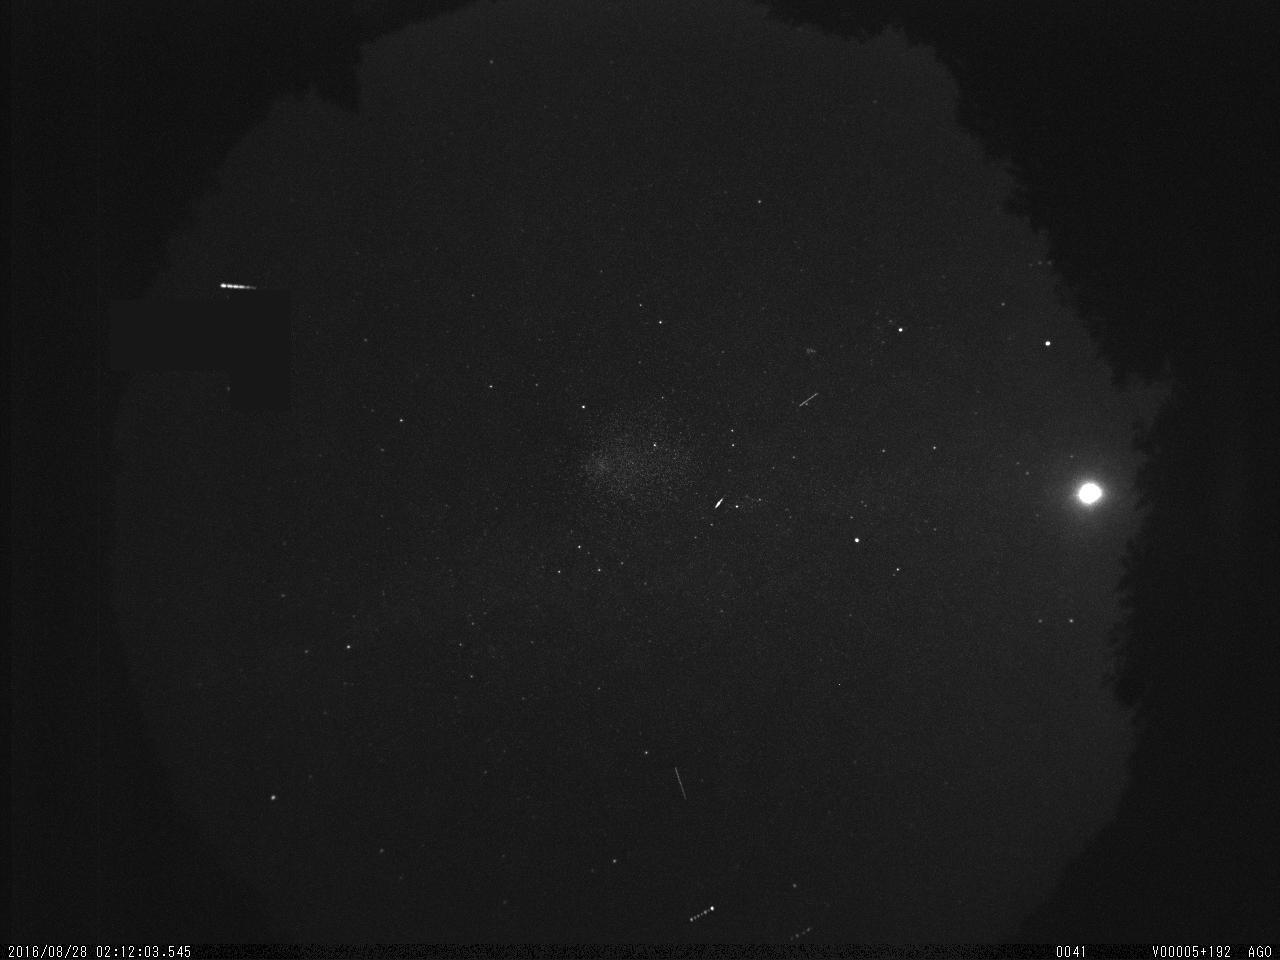meteor: (214, 274, 273, 293)
satelite: (666, 759, 691, 808), (682, 896, 716, 928), (790, 388, 822, 413)
